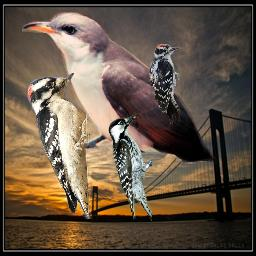Cuckoo: (22, 12, 217, 164)
Woodpecker: (27, 73, 92, 219), (108, 113, 152, 221), (148, 44, 180, 124)
